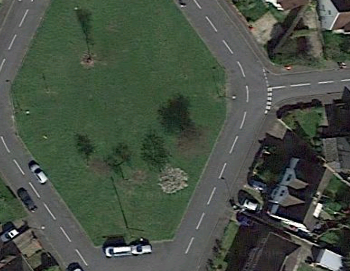tree: (167, 110, 221, 161), (132, 134, 175, 172), (71, 128, 102, 170)
